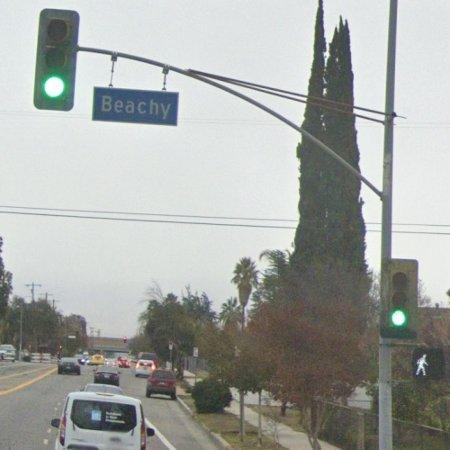traffic lights: (34, 8, 81, 111)
